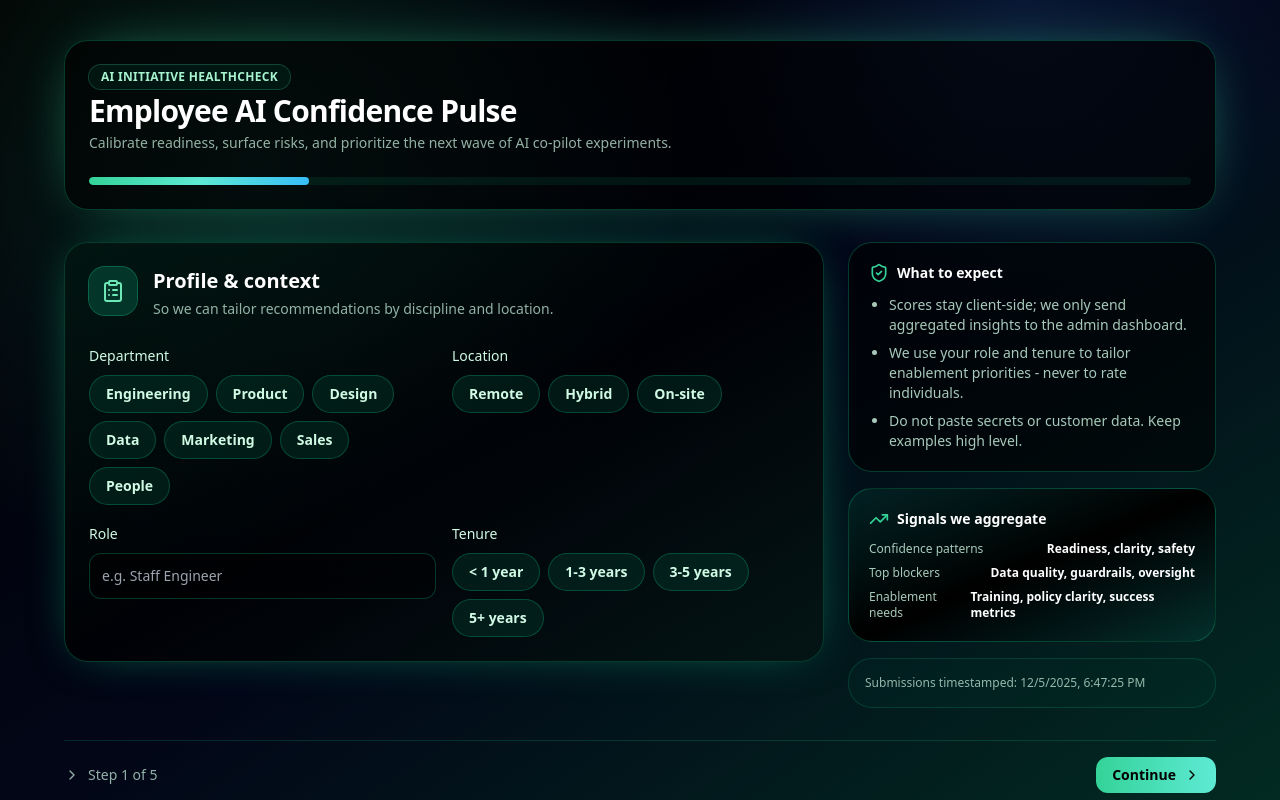
Test case: SurveyWizard › shows validation error if required fields missing
This screenshot has width=1280, height=800.
What coordinates should you click on to do the following:
click the button "Continue"
I would click on:
 (1156, 775)
Its box is top-left (1096, 757), bottom-right (1216, 793).
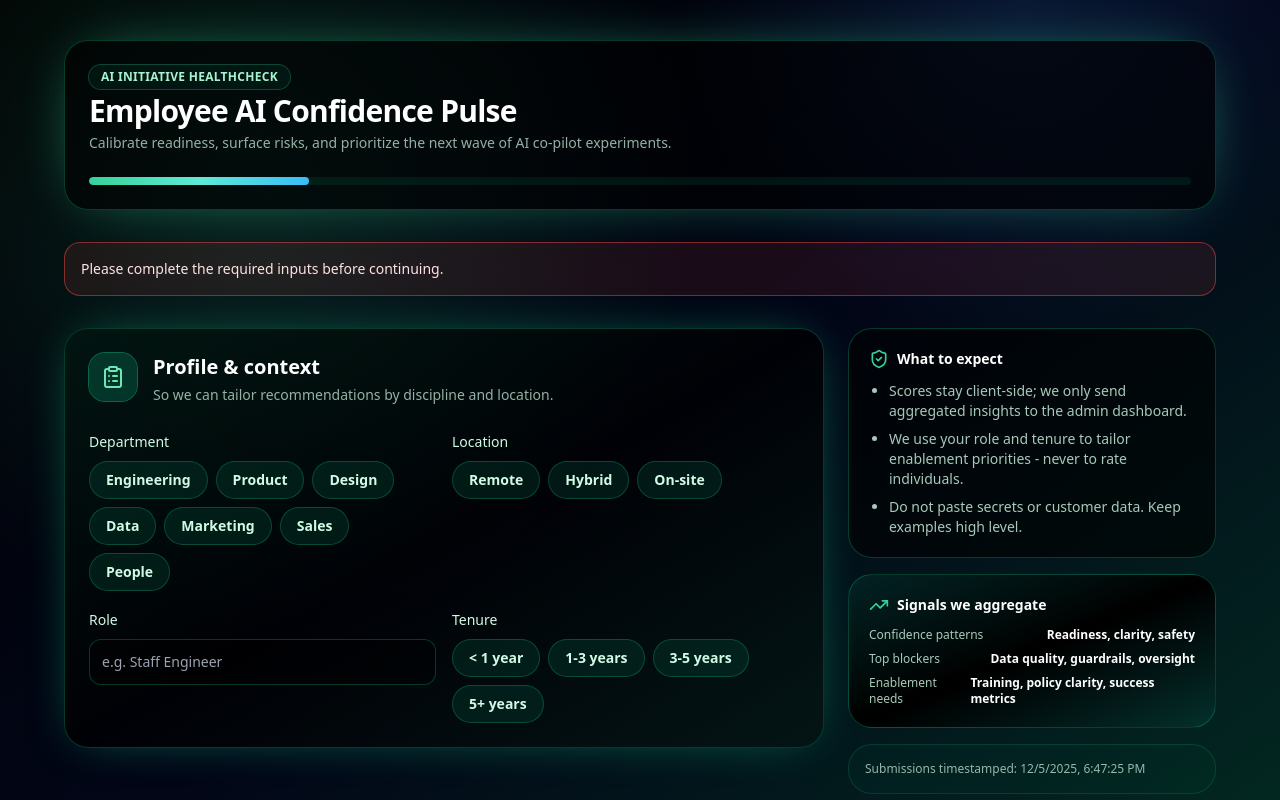
Check: the text "Please complete the required inputs before continuing." is shown, box top-left (64, 242), bottom-right (1216, 296)
